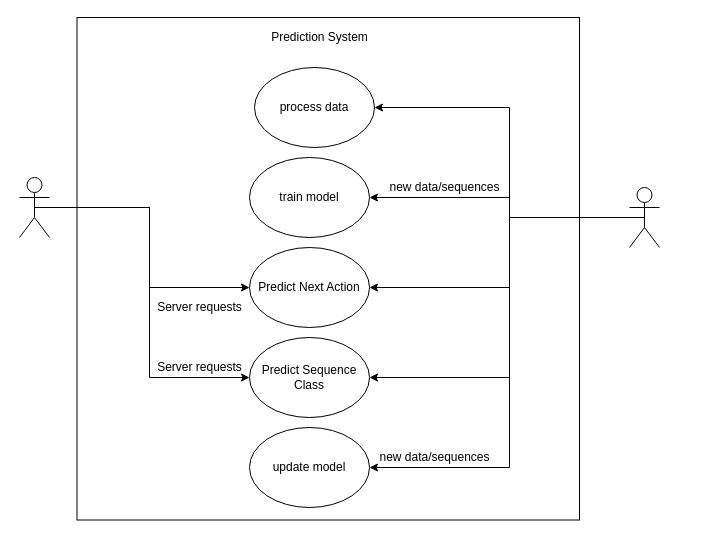
Some shapes in this 714 by 538 pixel diagram are drawn without their labels. Each missing label, with the box of its shape:
Server: (18, 176, 50, 238)
Software Developer: (628, 186, 660, 248)
